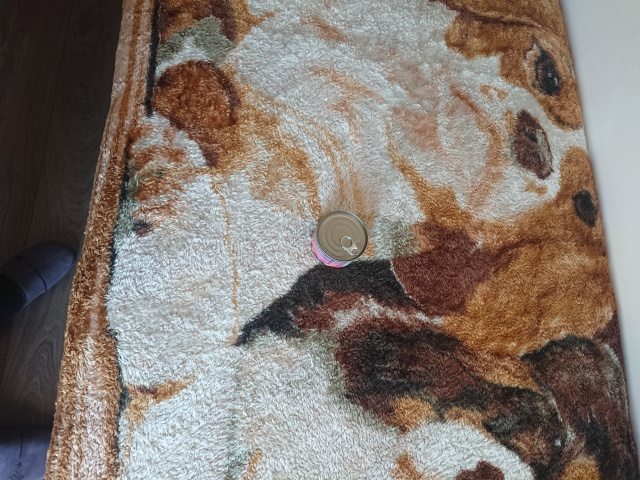Giana Tuna Salad Mexico 185g: (309, 209, 370, 270)
